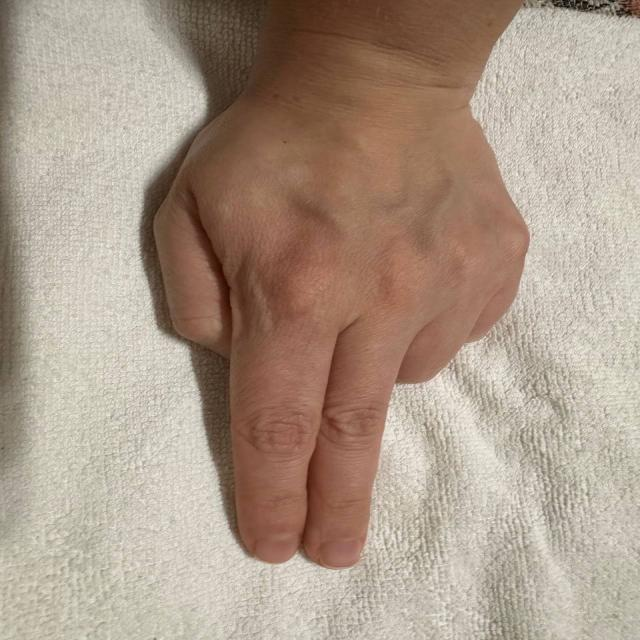p: (111, 52, 573, 580)
